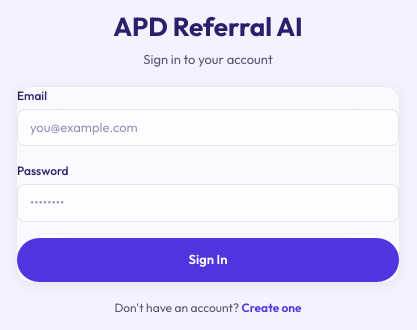
Login › disables the button while loading
Type "user@test.com" into the field labelled "Email" at (208, 128), box 17,109 -> 399,146
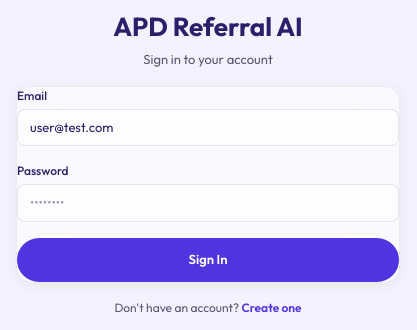
Type "password123" into the password field labelled "Password" at (208, 203), box 17,184 -> 399,222
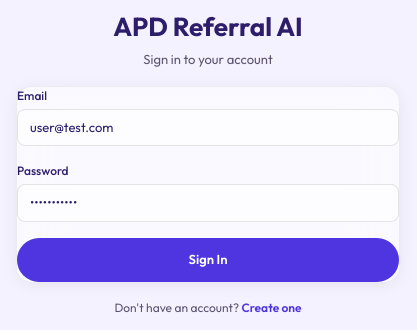
Click the button "Sign In" at (208, 260), box 17,238 -> 399,282
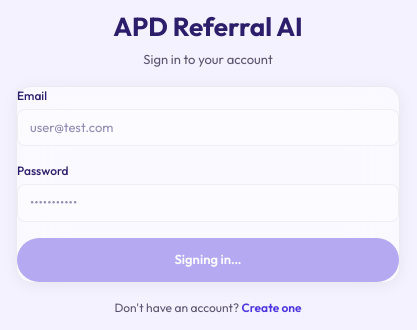
Expected: the button "Signing in…" is disabled, 17,238 -> 399,282
